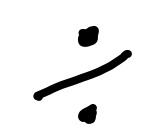div: (32, 27, 131, 124)
